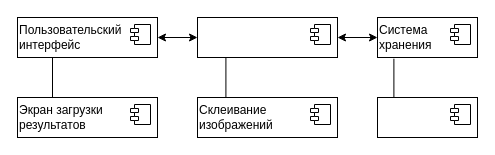
This 495x155 diagram has some shape labels left out. Each missing label, with the centre of its shape:
"Модули обработки изображений" belongs at pixel 267 37.
"Хранилище" belongs at pixel 427 117.
